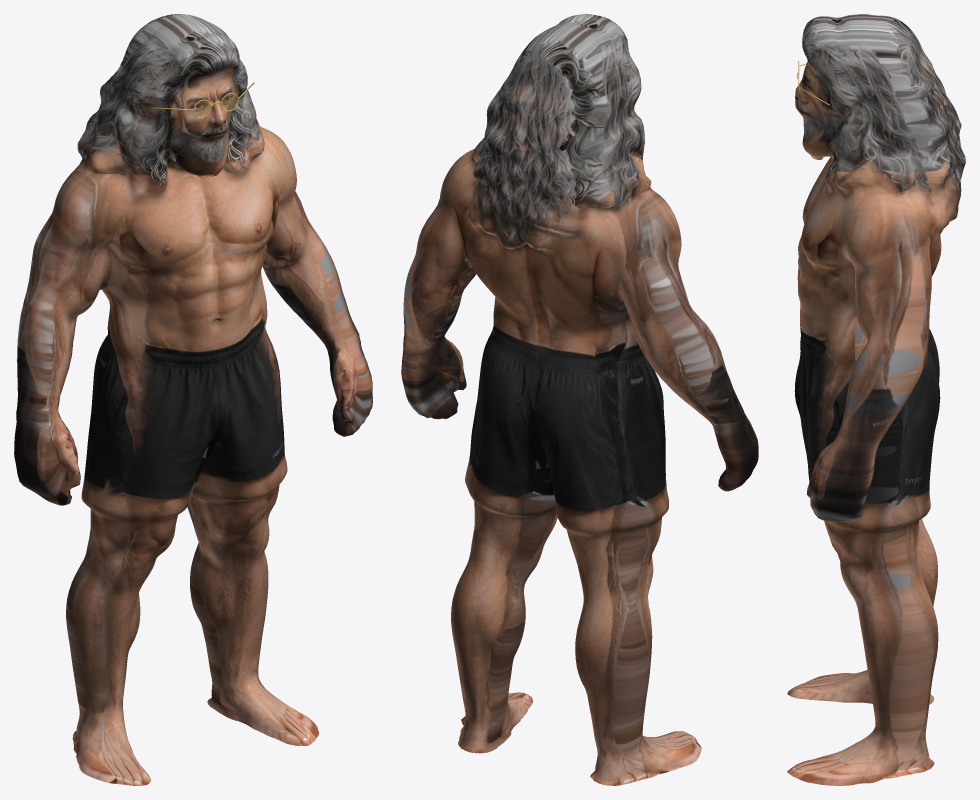
File: grandpa.glb
3 views of the same model, side by side, from view 1: azimuth 30°, elevation 25°; view 2: azimuth 150°, elevation 25°; view 3: azimuth 270°, elevation 25° (orthographic).
Visible parts, largest first — view 1: Grandpa_Body, Grandpa_Head, Grandpa_Glasses; view 2: Grandpa_Body, Grandpa_Head; view 3: Grandpa_Body, Grandpa_Head.
Part boxes in pixels (bbox=[...]): Grandpa_Body: bbox=[14, 127, 372, 785]; Grandpa_Head: bbox=[77, 14, 264, 179]; Grandpa_Glasses: bbox=[151, 82, 254, 118]; Grandpa_Body: bbox=[401, 149, 758, 785]; Grandpa_Head: bbox=[473, 14, 651, 210]; Grandpa_Body: bbox=[787, 151, 965, 785]; Grandpa_Head: bbox=[795, 14, 962, 194].
Size of the model in its own units: 0.9064 by 1.78 by 0.4061.
6 materials, 2 textured.
